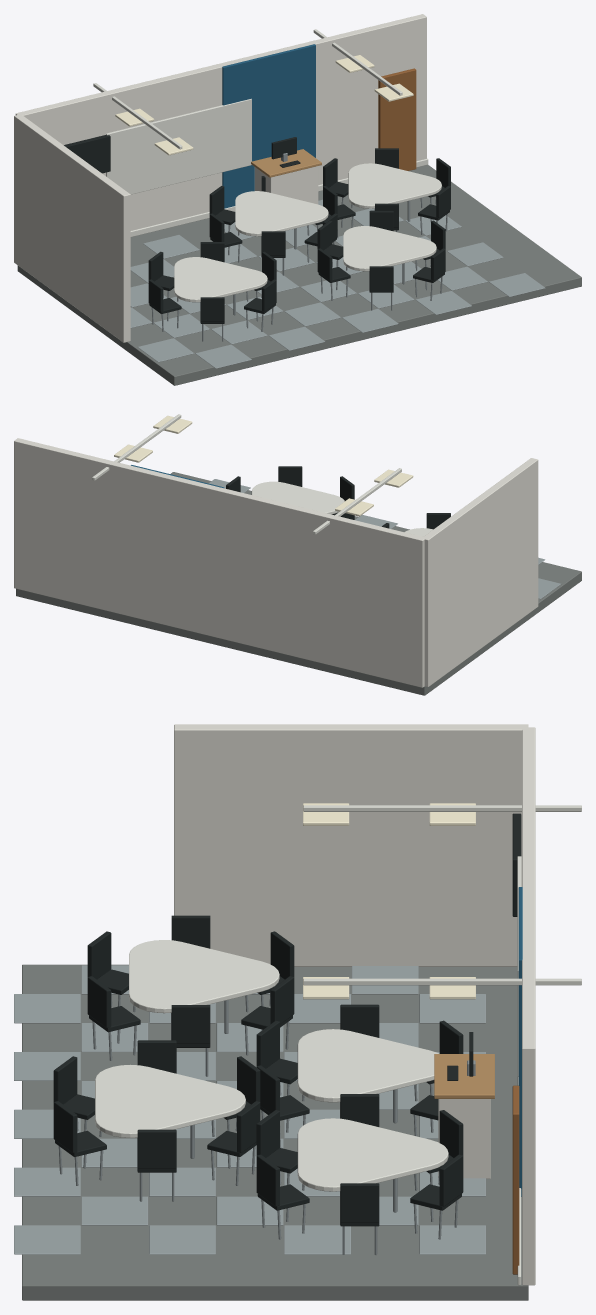
Rendered from faw-interior-5cab24c5244a.glb.
The picture shows the model from 3 angles, top to bottom: view 1: azimuth 30°, elevation 25°; view 2: azimuth 150°, elevation 25°; view 3: azimuth 270°, elevation 25°; orthographic projection. The views are drawn at different scales.
Visible parts, largest first — view 1: FAW.001; view 2: FAW.001; view 3: FAW.001.
Part boxes in pixels (bbox=[...]): FAW.001: bbox=[14, 14, 581, 385]; FAW.001: bbox=[14, 414, 581, 695]; FAW.001: bbox=[14, 724, 581, 1300].
Size of the model in its own units: 9.08 by 3.3 by 6.73.
